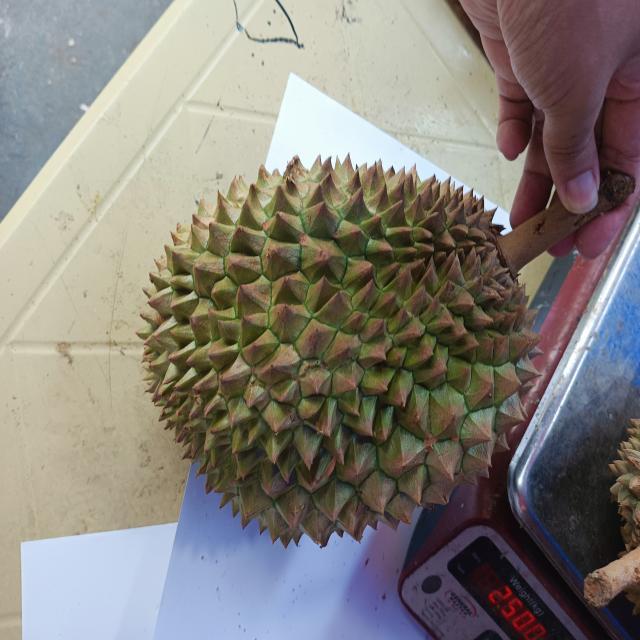mature: (140, 150, 530, 543)
